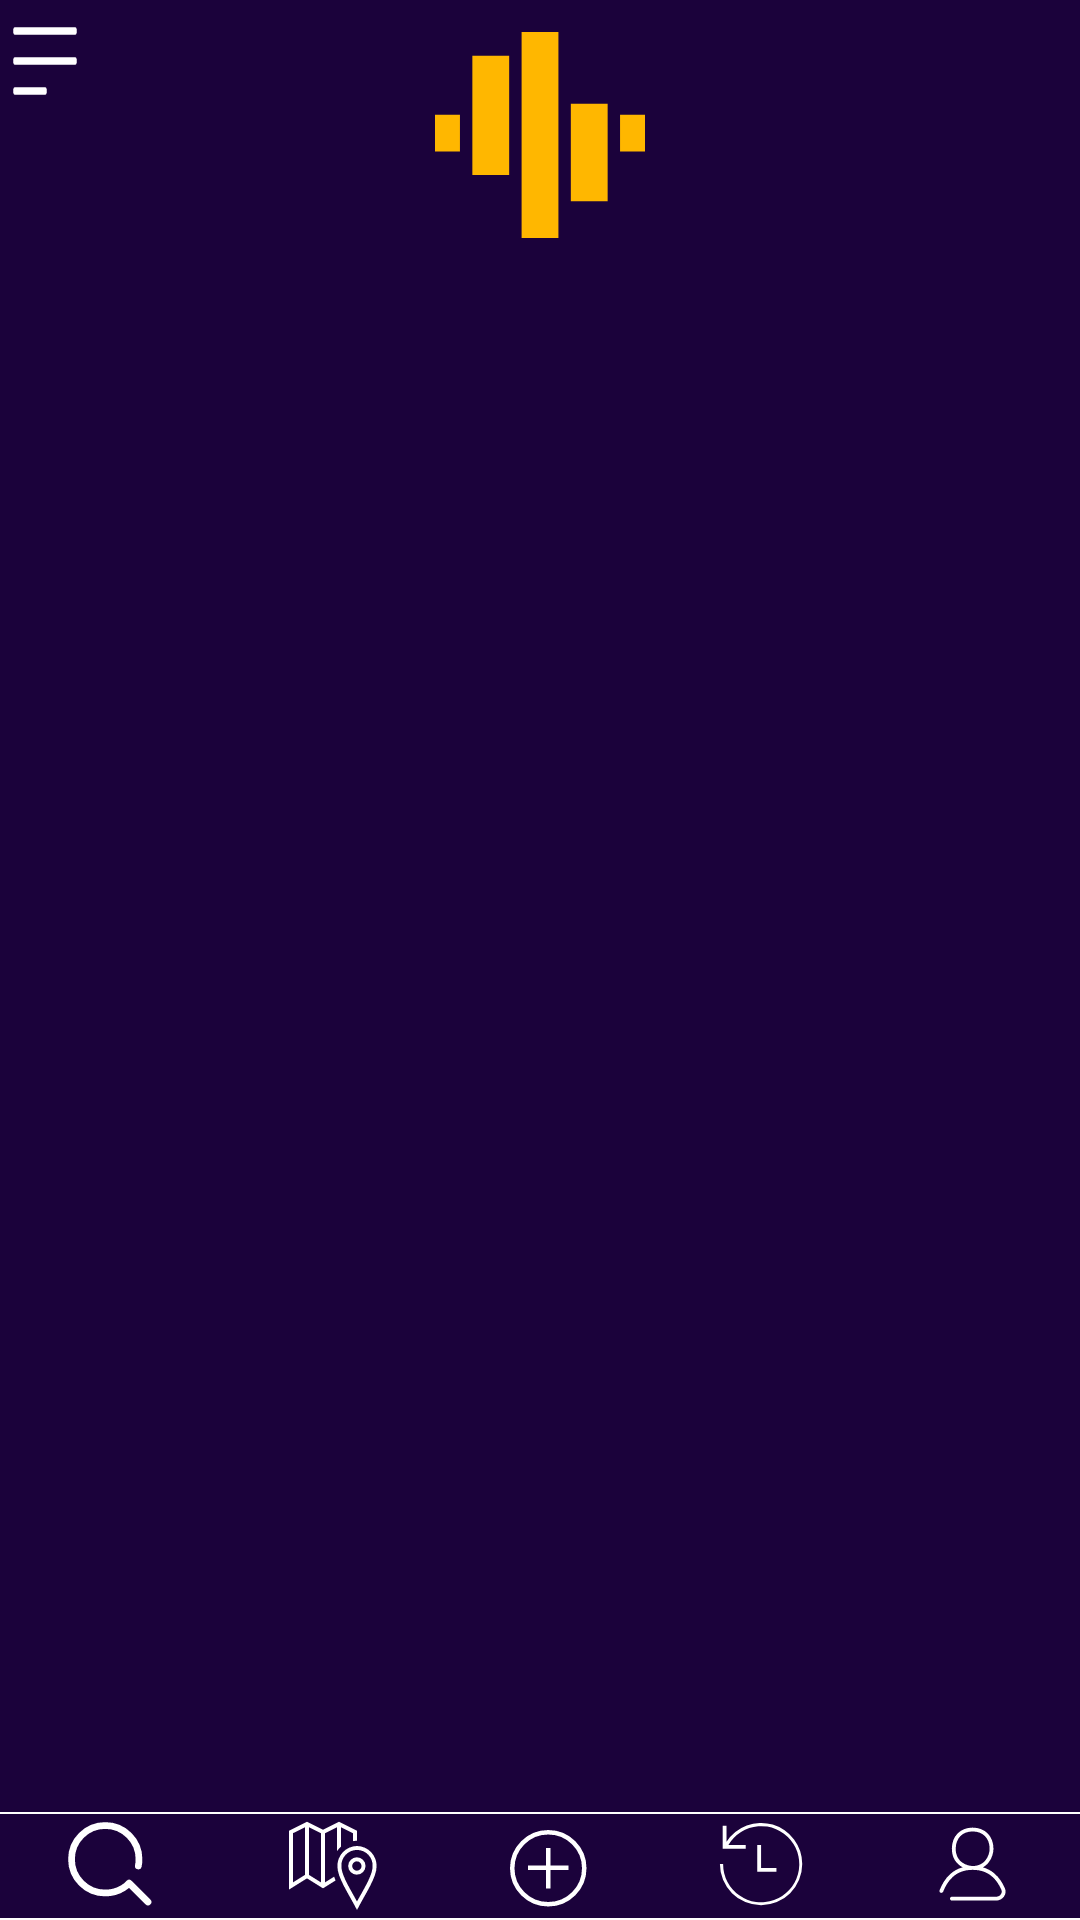

Where icons sit on this 1080 × 1920 app screen, as (x1, y1, x2, y2):
add: (510, 1830, 587, 1907)
map: (289, 1822, 377, 1910)
profile: (939, 1827, 1006, 1901)
recent: (720, 1823, 803, 1906)
search: (68, 1822, 152, 1906)
